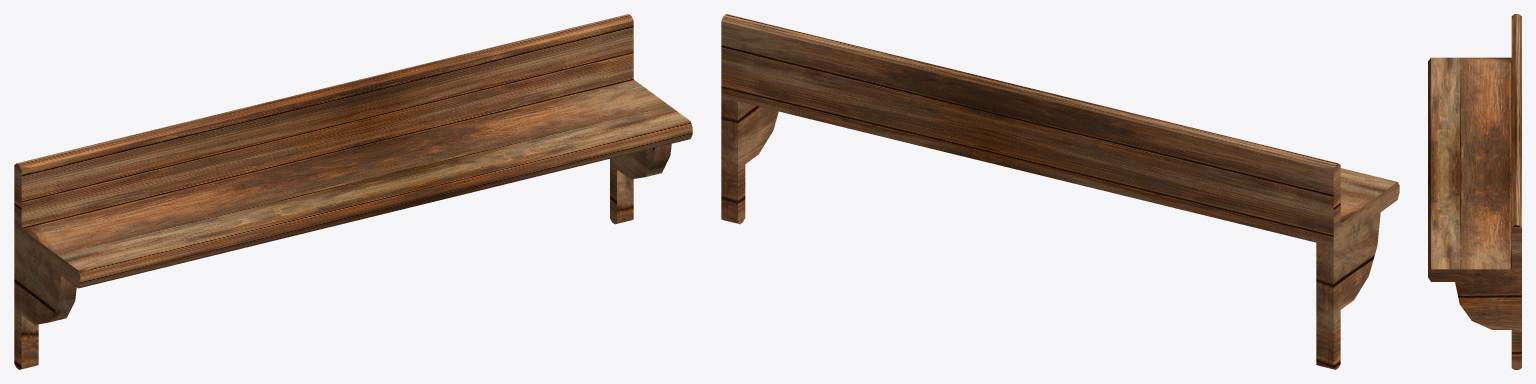
Rendered from plank final.fbx.
3 renders of one model, left to right at view 1: azimuth 30°, elevation 25°; view 2: azimuth 150°, elevation 25°; view 3: azimuth 270°, elevation 25°, orthographic. The views are drawn at different scales.
Parts seen in each view (by area): view 1: pCube3; view 2: pCube3; view 3: pCube3.
Part boxes in pixels (x1,y1,x2,y2): pCube3: (14, 14, 692, 369); pCube3: (721, 14, 1399, 369); pCube3: (1428, 14, 1521, 369).
Size of the model in its own units: 16.73 by 5.34 by 3.13.
1 material, 1 textured.
